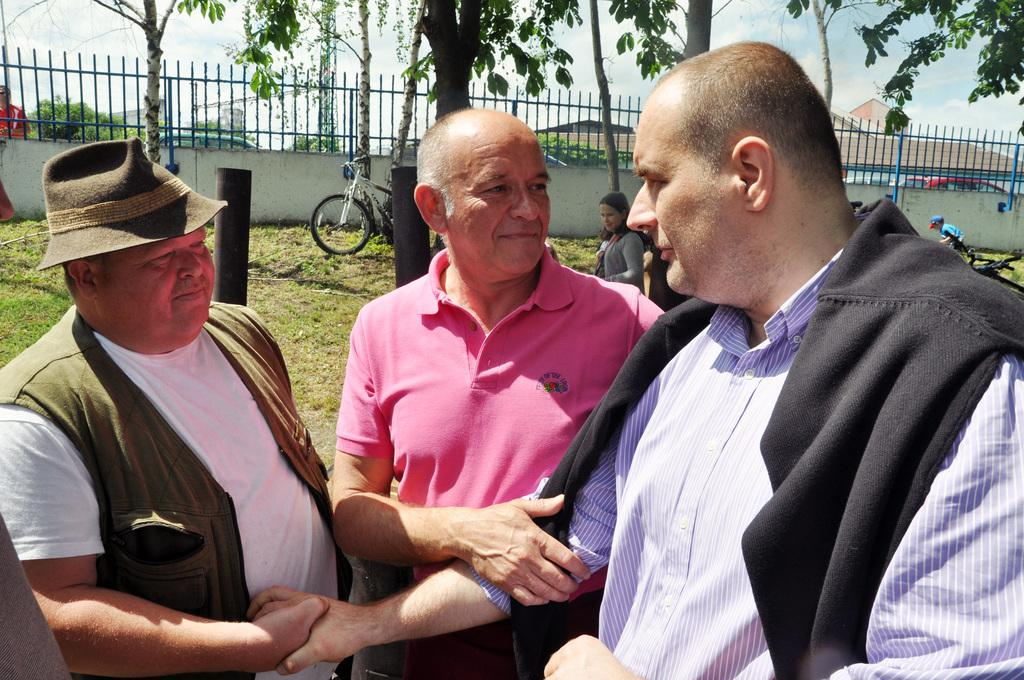Hat: (30, 132, 236, 271)
